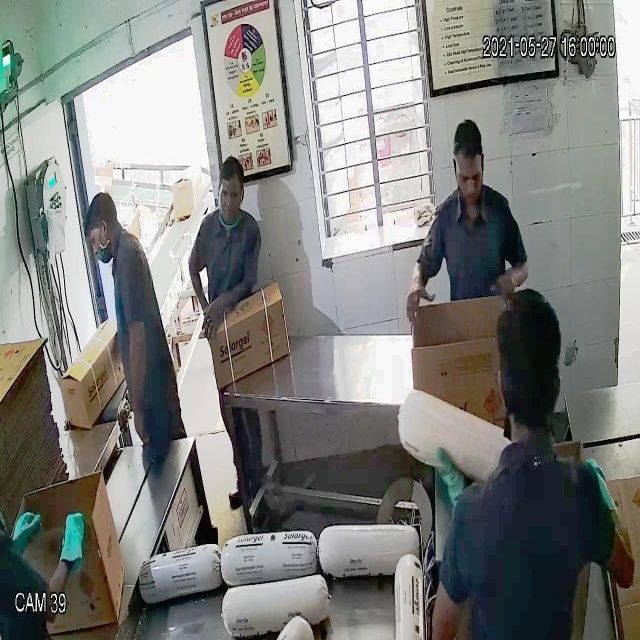Sin_gafas: (453, 159, 489, 194), (214, 180, 250, 212)
